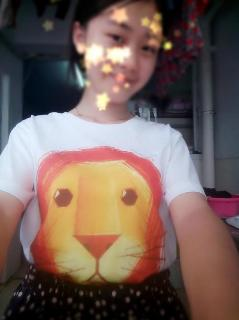short sleeve top: (0, 111, 207, 288)
skirt: (0, 263, 190, 319)
